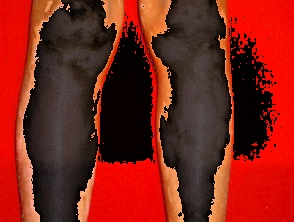vitiligo: (0, 0, 130, 222), (148, 0, 253, 222)
